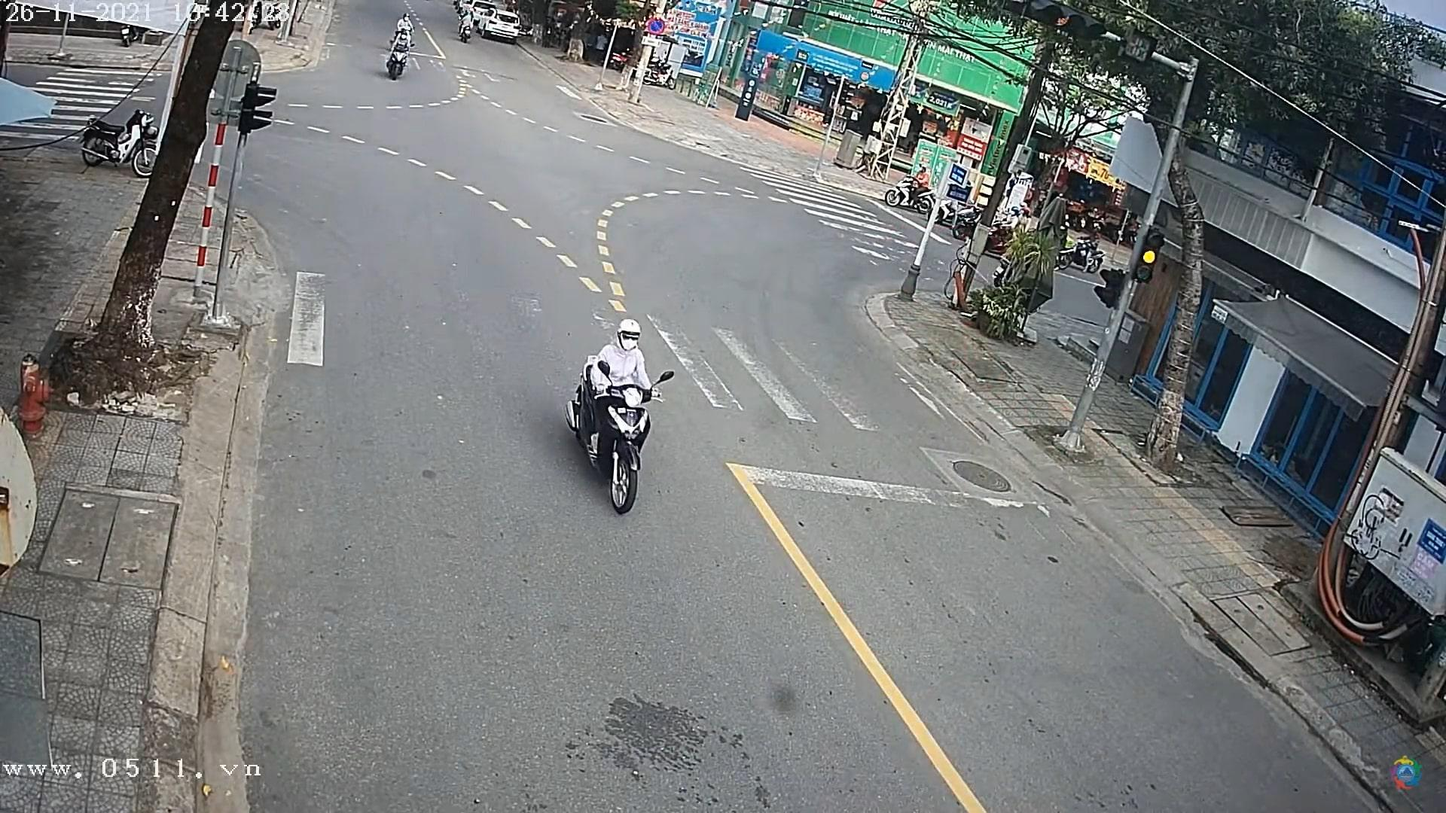motorbike: (571, 346, 661, 516), (381, 36, 411, 81)
